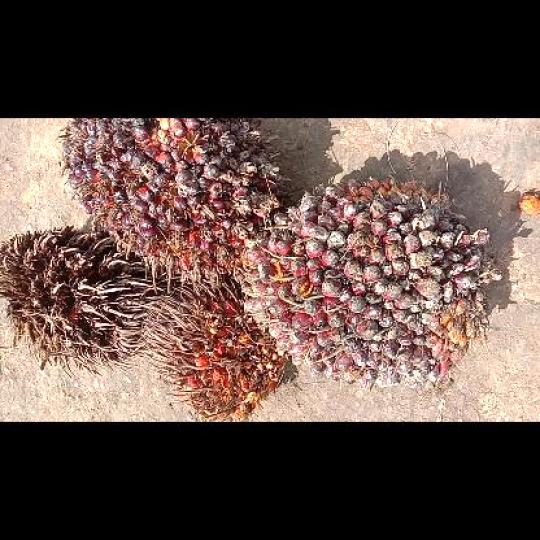kurang masak: (244, 174, 498, 388)
masak: (54, 119, 296, 291)
terlalu masak: (136, 275, 295, 421)
